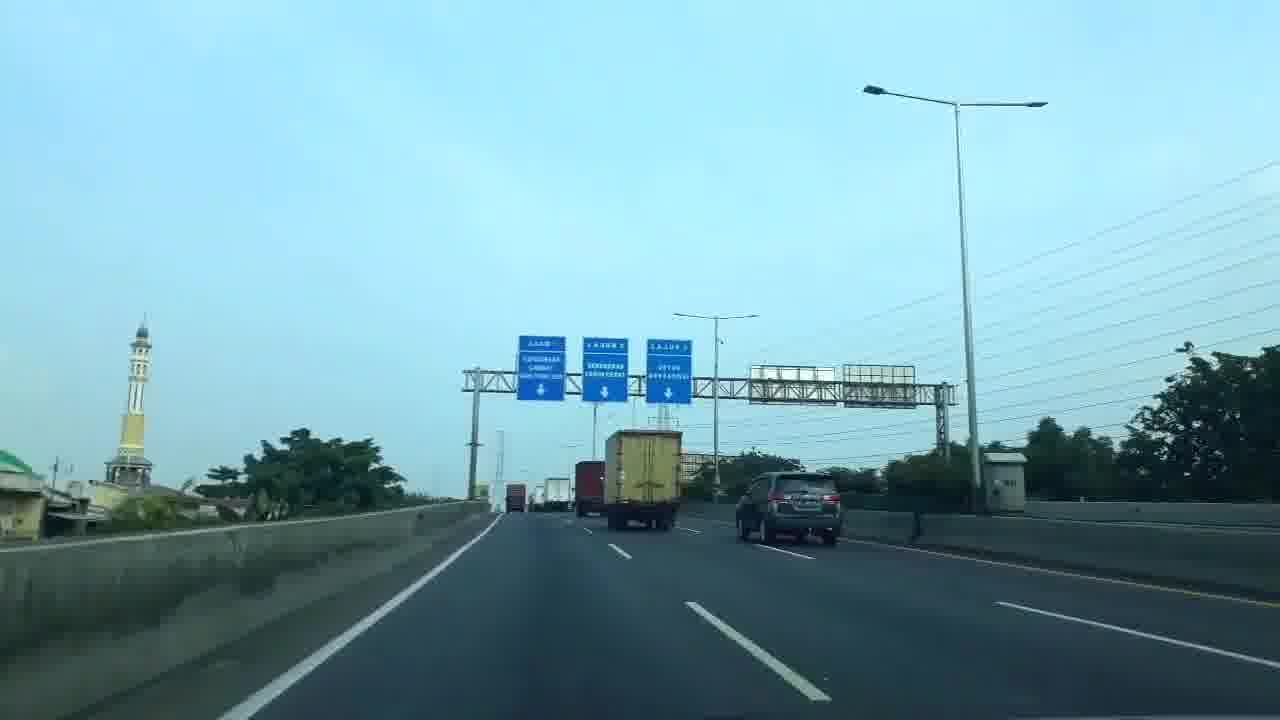plate_positive: (799, 500, 817, 507)
